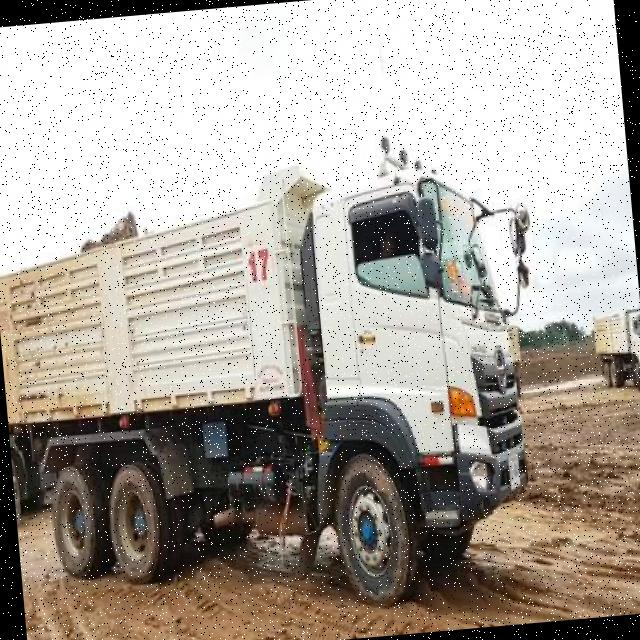Dump Truck: (0, 123, 559, 638), (588, 303, 640, 398)
